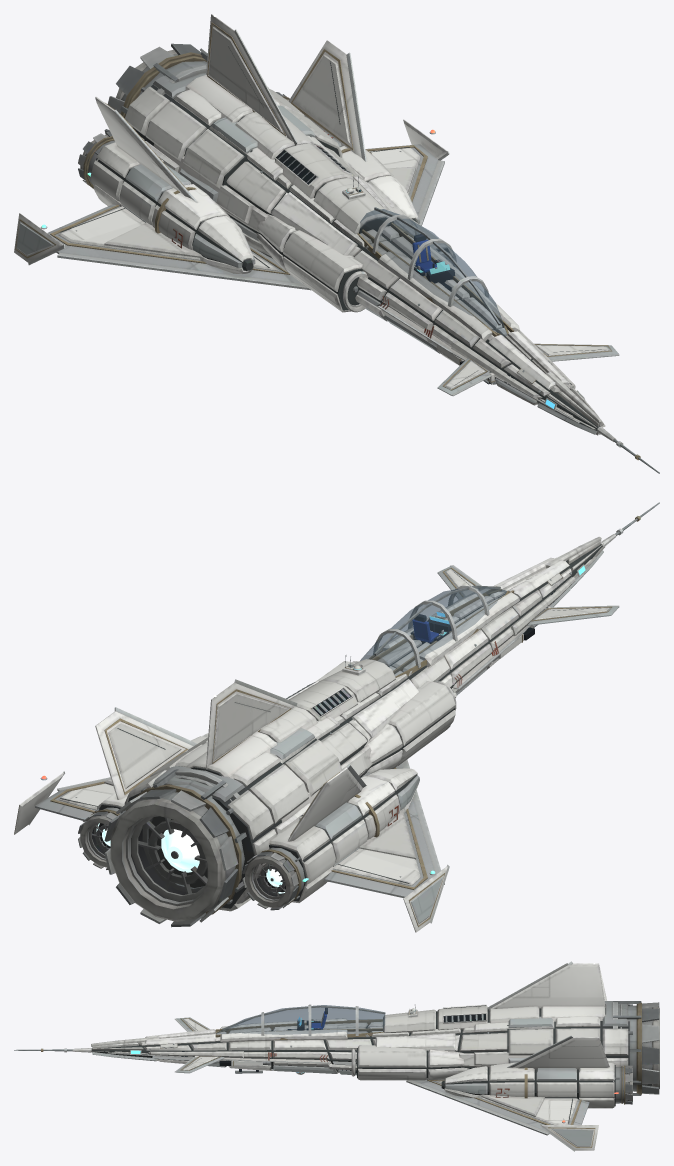
Rendered from kestrel_interceptor.glb.
The picture shows the model from 3 angles, top to bottom: view 1: azimuth 30°, elevation 25°; view 2: azimuth 150°, elevation 25°; view 3: azimuth 270°, elevation 25°; orthographic projection. The views are drawn at different scales.
Visible parts, largest first — view 1: kestrel_interceptor_hull, kestrel_interceptor_glass; view 2: kestrel_interceptor_hull, kestrel_interceptor_glass, kestrel_interceptor_plasma; view 3: kestrel_interceptor_hull, kestrel_interceptor_glass.
Part boxes in pixels (x1=…): kestrel_interceptor_hull: x1=14, y1=14, x2=659, y2=473; kestrel_interceptor_glass: x1=360, y1=209, x2=507, y2=336; kestrel_interceptor_hull: x1=14, y1=502, x2=659, y2=932; kestrel_interceptor_glass: x1=360, y1=587, x2=506, y2=675; kestrel_interceptor_plasma: x1=96, y1=823, x2=284, y2=893; kestrel_interceptor_hull: x1=14, y1=961, x2=659, y2=1151; kestrel_interceptor_glass: x1=216, y1=1005, x2=384, y2=1034.
Size of the model in its own units: 6.47 by 3 by 13.75.
3 materials, 1 textured.
